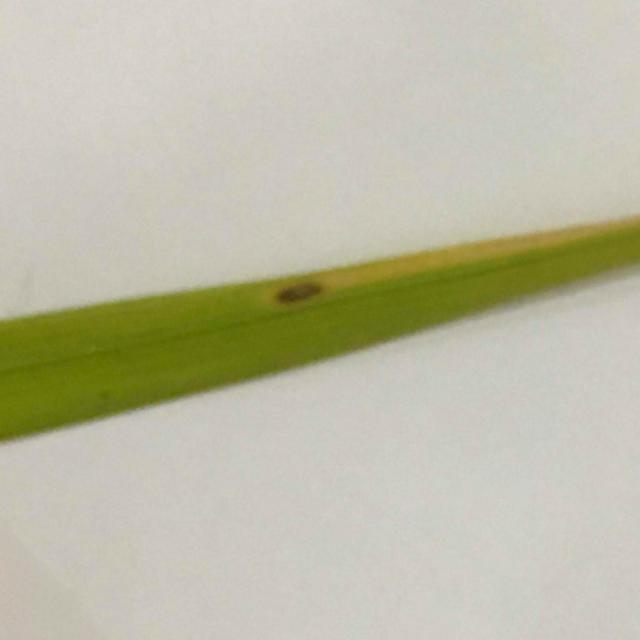Leaf_Blast: (249, 245, 361, 334)
